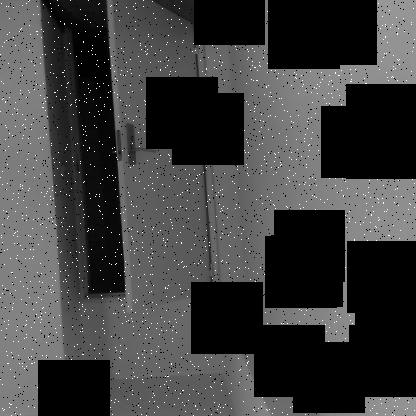Porte: (58, 1, 225, 315)
